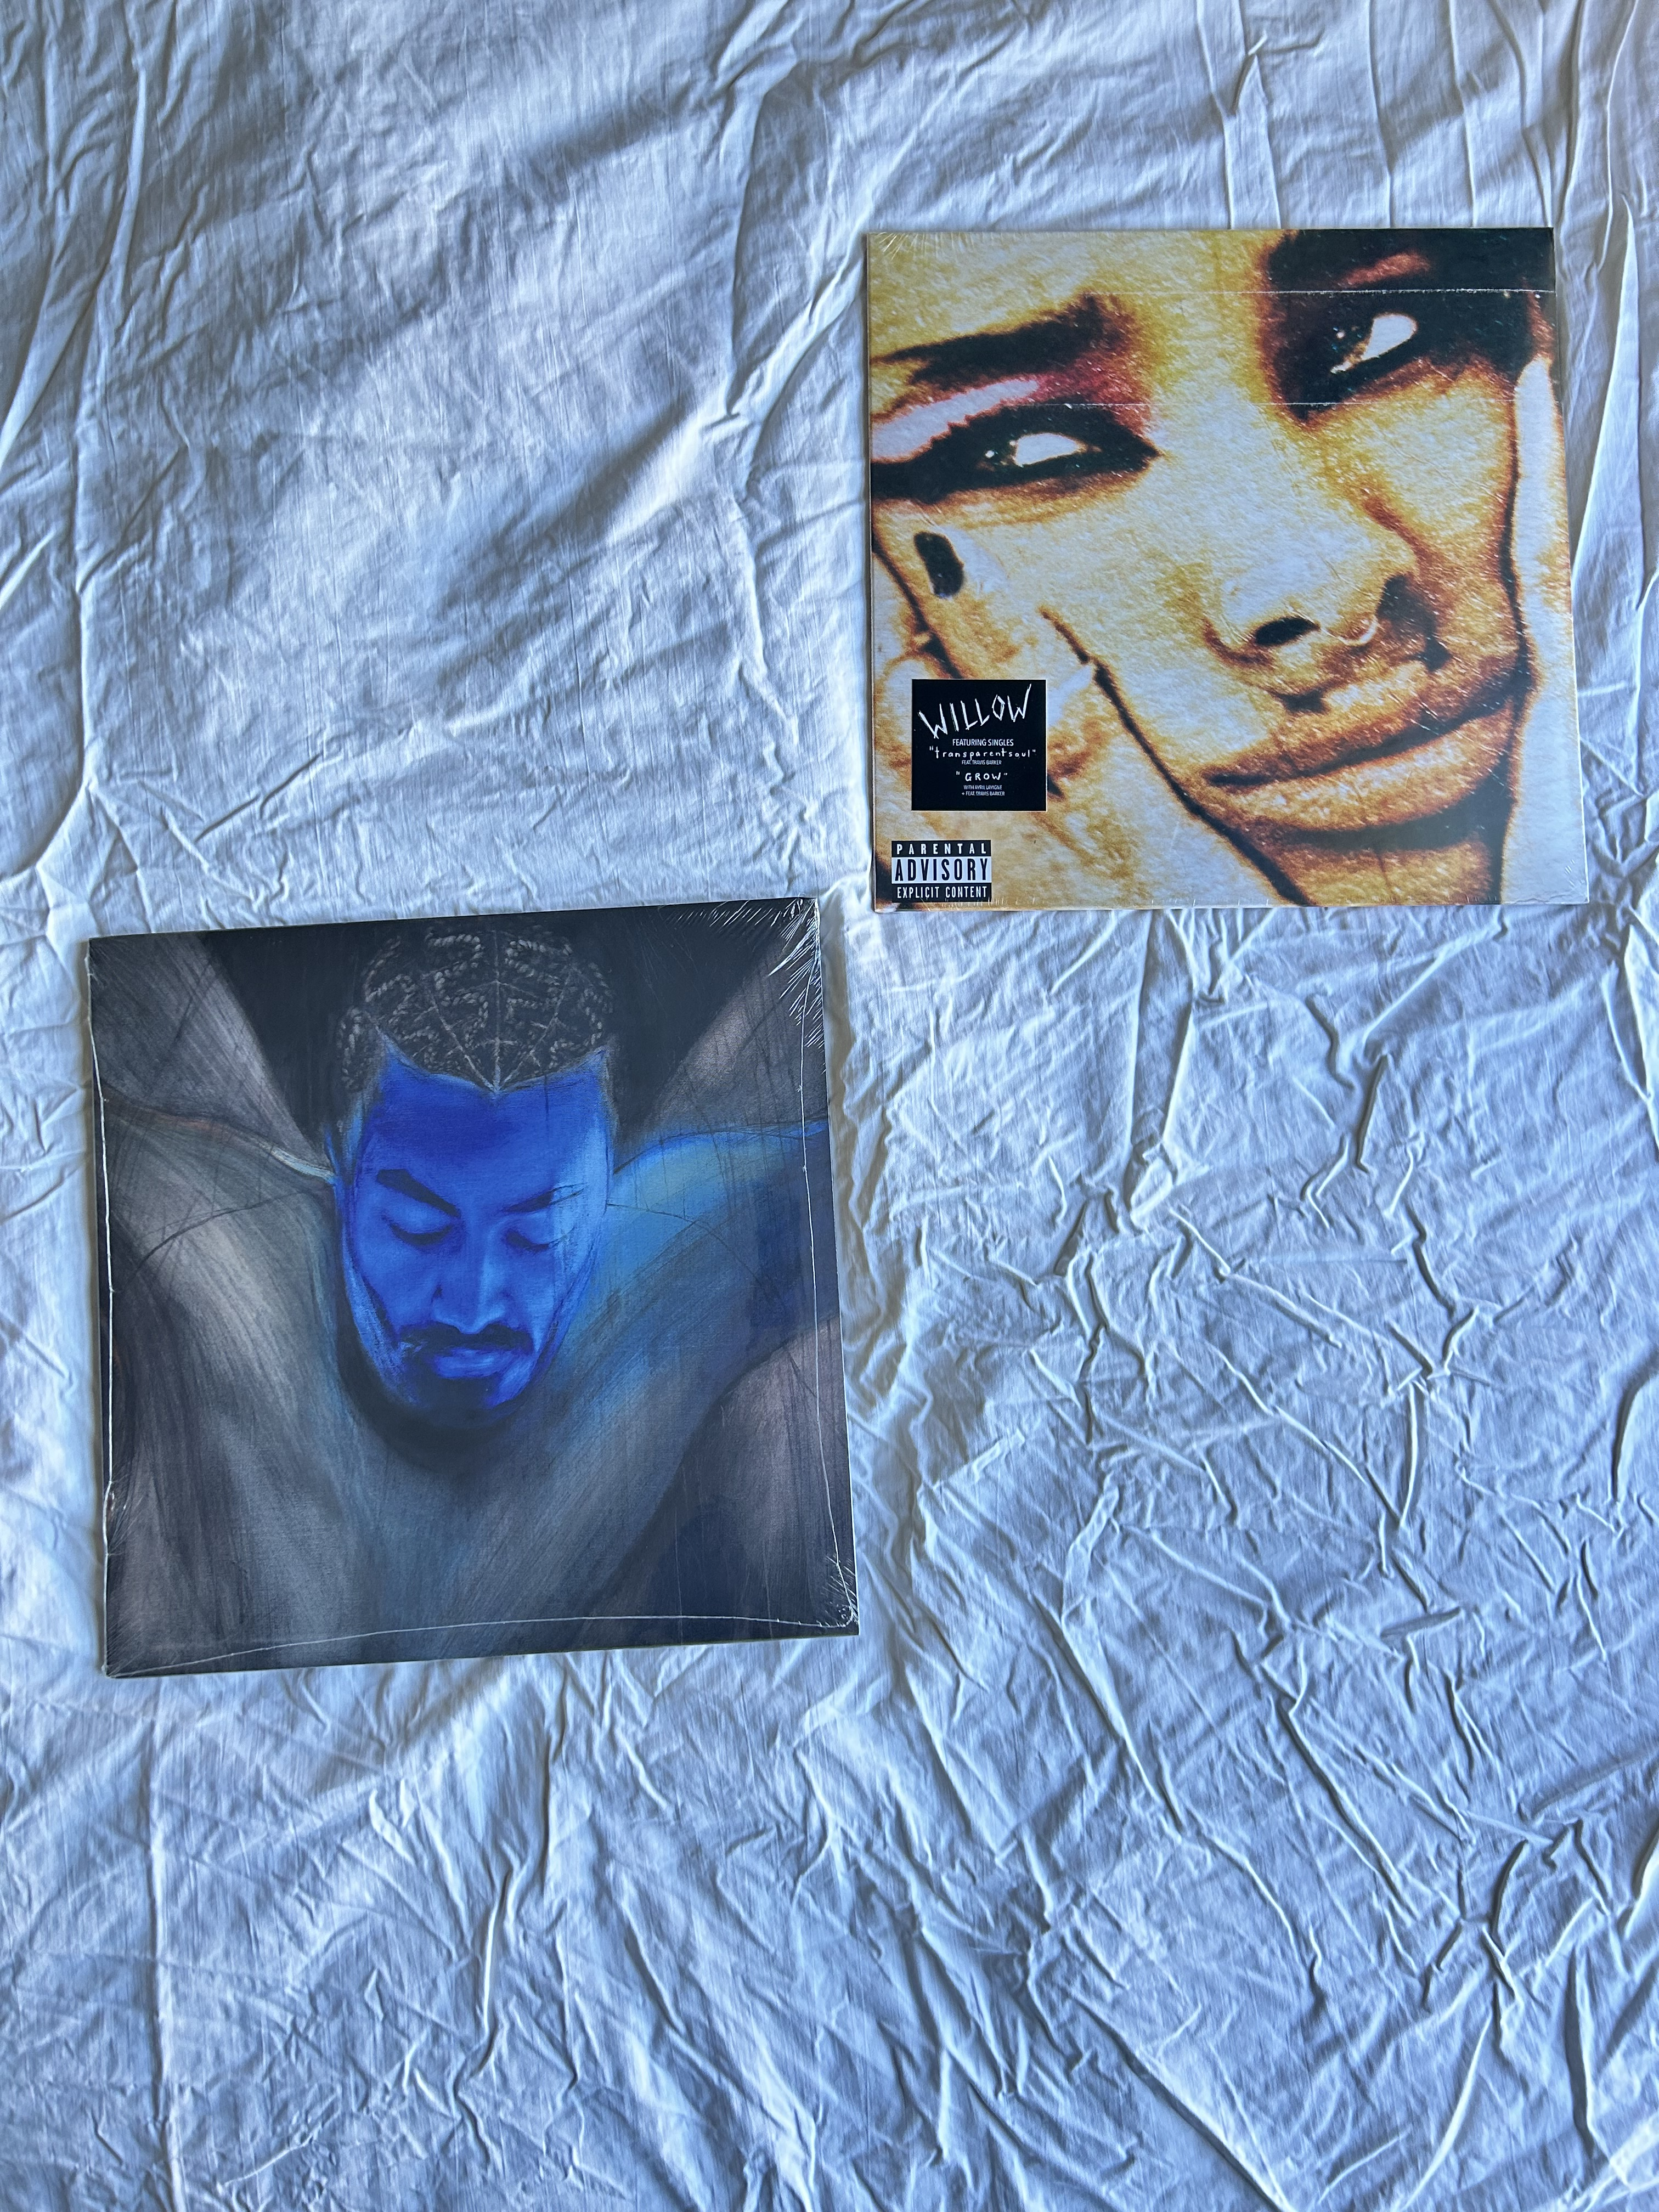navy blue_song of sage: post panic!: (42, 932, 833, 1679)
willow_lately i feel everything: (863, 216, 1600, 918)
